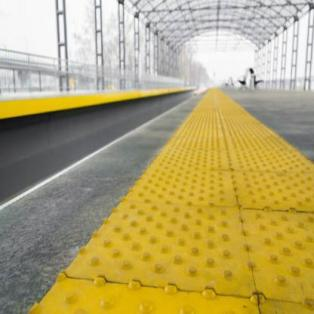Podoctatil: (33, 101, 312, 312)
